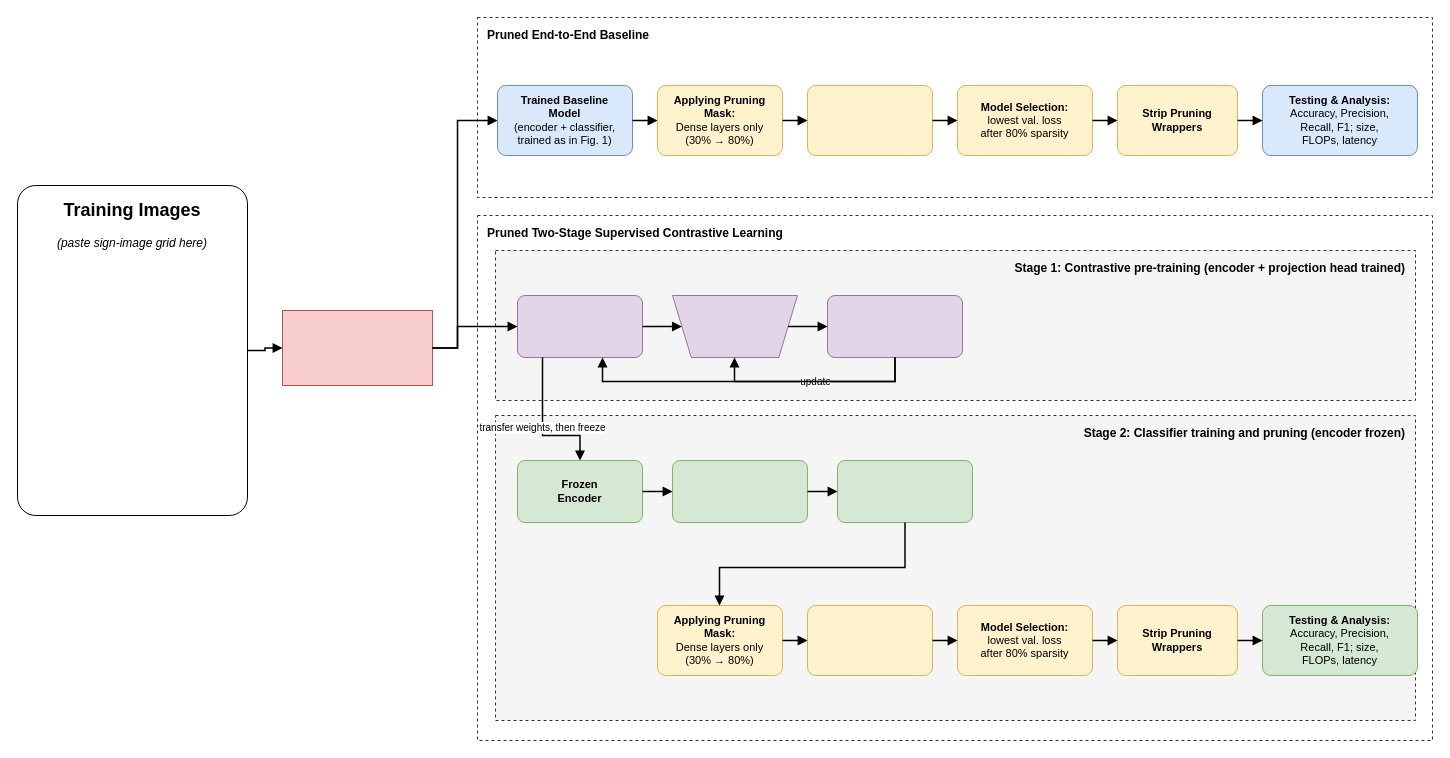
This 1450x758 diagram has some shape labels left out. The centre of each missing label's shape, as x and y in pixels:
"Classifier Model: Dense Layers, BatchNorm, Dropout and Softmax" belongs at point 740,491.
"Classifier Training: early stopping (classifier only)" belongs at point 904,491.
"Minimising Contrastive Loss" belongs at point 894,326.
"Pre-trained Encoder: ResNet50V2" belongs at point 579,326.
"Preprocessed Images: 224×224×3 and augmentation" belongs at point 357,348.
"Projection Head" belongs at point 735,326.
"Pruning Fine-tuning: 30 epochs, all weights updated" belongs at point 869,120.
"Pruning Fine-tuning: 30 epochs, classifier only" belongs at point 869,640.
